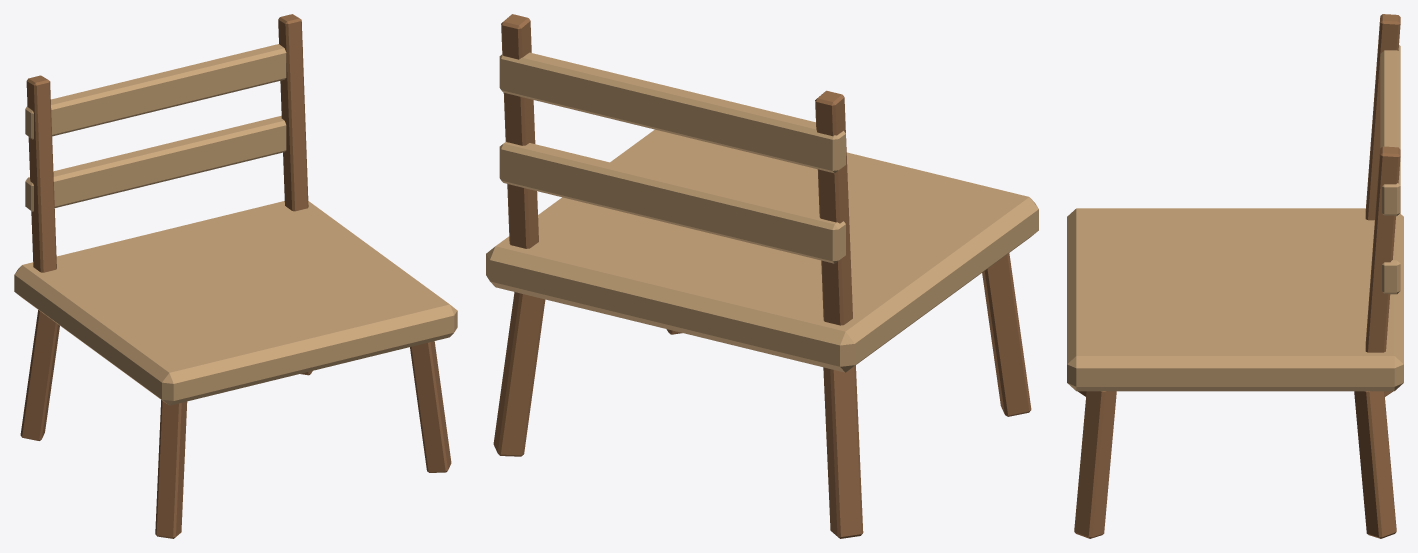
The model's file is Chair_01_Basic.fbx.
3 renders of one model, left to right at view 1: azimuth 30°, elevation 25°; view 2: azimuth 150°, elevation 25°; view 3: azimuth 270°, elevation 25°, orthographic. The views are drawn at different scales.
Visible parts, largest first — view 1: Chair_01_Basic; view 2: Chair_01_Basic; view 3: Chair_01_Basic.
Boxes of the visible parts, x1,y1,x2,y2 form: Chair_01_Basic: (14, 14, 457, 538); Chair_01_Basic: (486, 14, 1038, 538); Chair_01_Basic: (1067, 14, 1403, 538).
Bounding box in the file's own units: 235 × 268 × 215.
